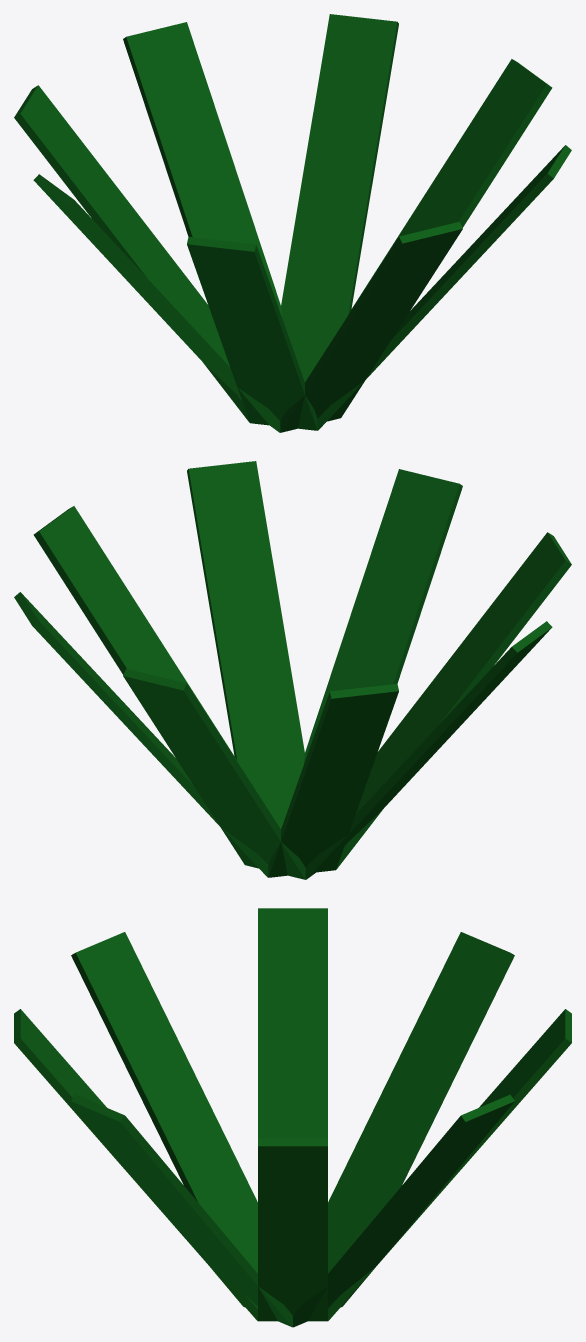
The model's file is giant_fern.obj.
The picture shows the model from 3 angles, top to bottom: view 1: azimuth 30°, elevation 25°; view 2: azimuth 150°, elevation 25°; view 3: azimuth 270°, elevation 25°; orthographic projection.
Parts seen in each view (by area): view 1: giant_fern; view 2: giant_fern; view 3: giant_fern.
Part boxes in pixels (bbox=[...]): giant_fern: bbox=[14, 14, 571, 432]; giant_fern: bbox=[14, 461, 571, 879]; giant_fern: bbox=[14, 908, 571, 1327].
Size of the model in its own units: 1.99 by 1.12 by 1.99.
